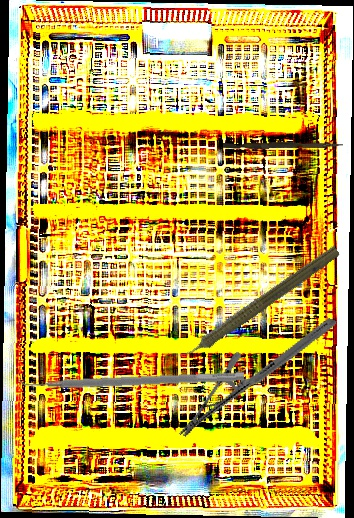Handpiece: (167, 239, 343, 372)
Needle Holder: (178, 281, 337, 474)
Pusher: (222, 138, 344, 152)
Spatula Surgical: (17, 362, 245, 393)
